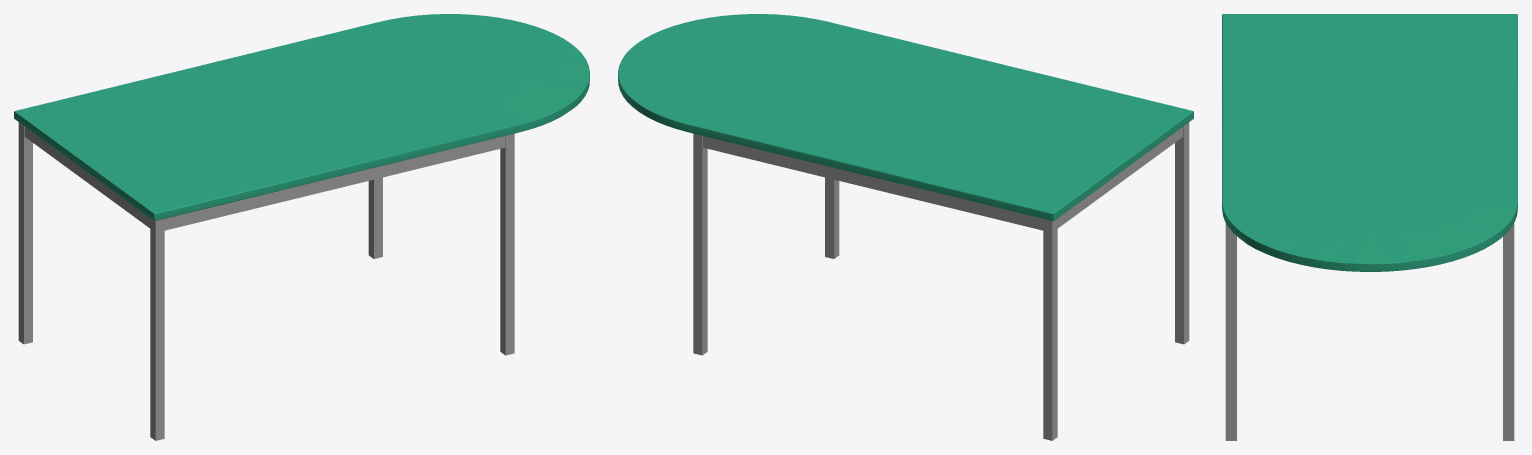
Rendered from conference_form36_160x80_FINAL_SMOOTH.fbx.
The picture shows the model from 3 angles, left to right: view 1: azimuth 30°, elevation 25°; view 2: azimuth 150°, elevation 25°; view 3: azimuth 270°, elevation 25°; orthographic projection. The views are drawn at different scales.
Parts seen in each view (by area): view 1: drewno1, drewno2, metal2; view 2: drewno1, drewno2, metal2; view 3: drewno1, drewno2, metal2.
Boxes of the visible parts, x1=… form: drewno1: x1=15, y1=14, x2=588, y2=220; drewno2: x1=14, y1=14, x2=589, y2=220; metal2: x1=18, y1=122, x2=514, y2=437; drewno1: x1=619, y1=14, x2=1192, y2=220; drewno2: x1=618, y1=14, x2=1193, y2=221; metal2: x1=693, y1=122, x2=1189, y2=437; drewno1: x1=1222, y1=14, x2=1517, y2=263; drewno2: x1=1222, y1=14, x2=1517, y2=271; metal2: x1=1225, y1=223, x2=1514, y2=437.
Size of the model in its own units: 160 by 72.16 by 80.
